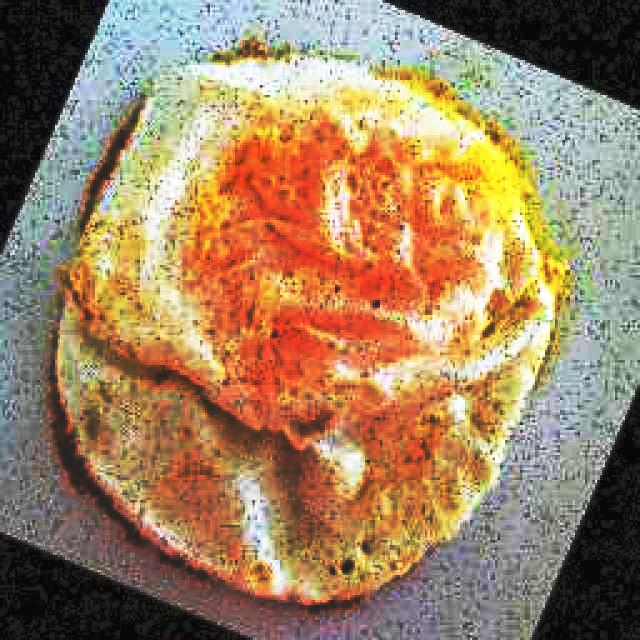fried_eggs: (50, 46, 558, 607)
